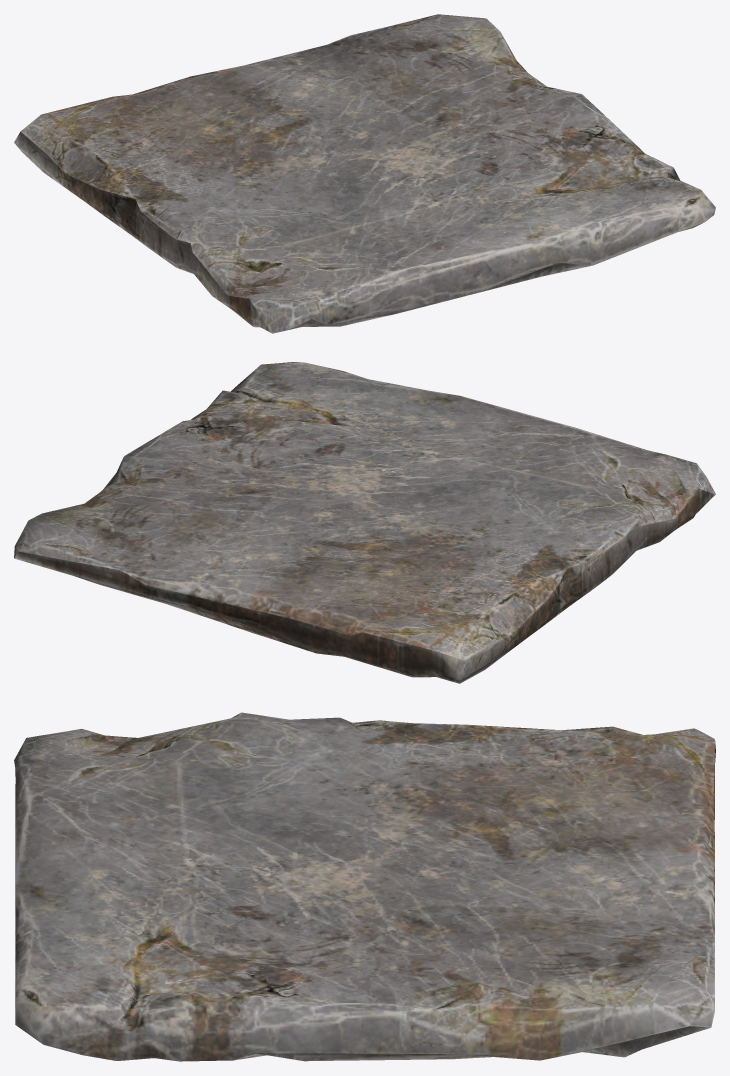
Rendered from SM_GroundPlate01.FBX.
The picture shows the model from 3 angles, top to bottom: view 1: azimuth 30°, elevation 25°; view 2: azimuth 150°, elevation 25°; view 3: azimuth 270°, elevation 25°; orthographic projection. The views are drawn at different scales.
Parts seen in each view (by area): view 1: SM_GroundPlate01; view 2: SM_GroundPlate01; view 3: SM_GroundPlate01.
Part boxes in pixels (x1,y1,x2,y2): SM_GroundPlate01: (14,14,715,333); SM_GroundPlate01: (14,362,715,683); SM_GroundPlate01: (14,712,715,1061).
Bounding box in the file's own units: 601 × 602 × 58.49.
